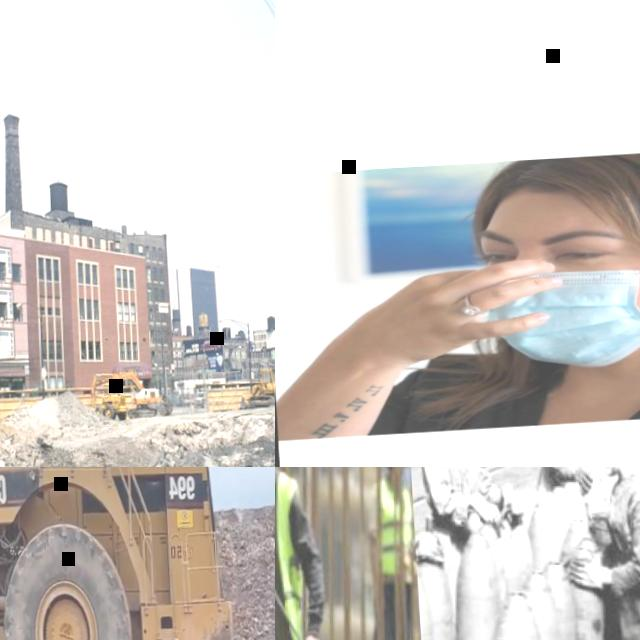Mask: (480, 251, 640, 374), (396, 467, 410, 490), (594, 467, 616, 479)
NO-Hardhat: (472, 144, 640, 225)
NO-Safety Vest: (401, 337, 640, 435), (603, 471, 640, 589), (438, 467, 490, 491)
Person: (275, 139, 640, 439), (559, 467, 640, 640), (354, 467, 420, 640), (275, 467, 322, 640), (414, 467, 505, 528)
Safety Vest: (275, 469, 307, 640), (369, 484, 414, 574)
vehicle: (0, 467, 245, 640), (87, 370, 172, 421), (235, 365, 275, 410), (93, 380, 128, 422)
